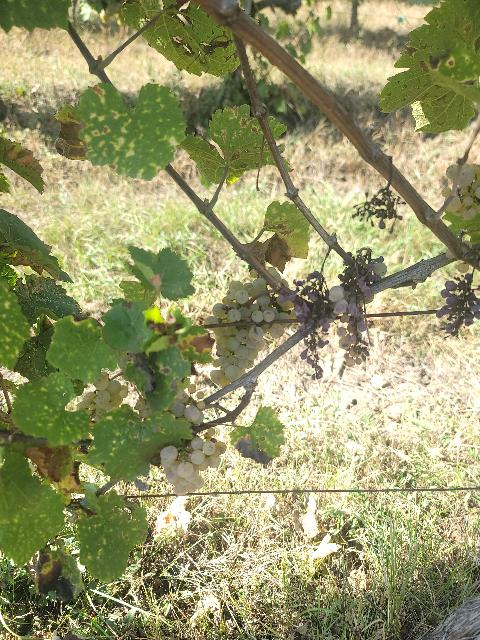grapes: (204, 278, 286, 386)
